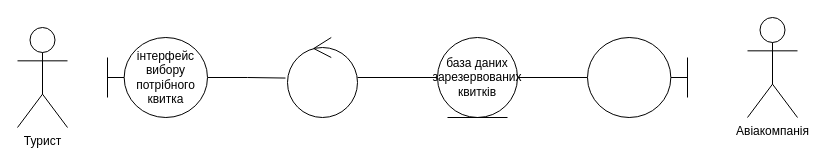
The diagram is 826 pixels wide and 166 high, and some of its shapes have lost their labels. Here are the shapes that lost their labels. From the top down, the box of each, then its label:
(286, 36, 358, 118): обирач квитка
(586, 36, 688, 118): інтерфейс просмотру зарезервованих квитків
